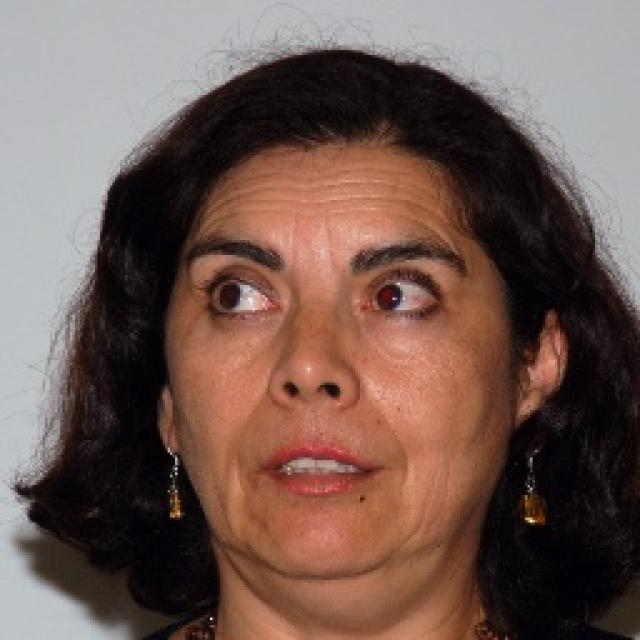earlobe: (512, 380, 548, 424), (154, 428, 180, 457)
eye: (363, 270, 442, 324), (203, 272, 280, 326)
nose: (268, 391, 356, 436)
wholeear: (512, 307, 568, 425)
